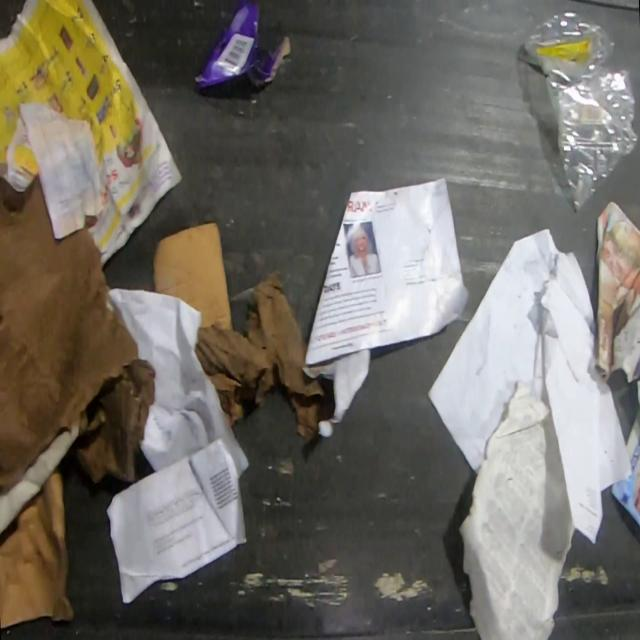cardboard: (0, 173, 154, 497), (154, 221, 325, 439), (0, 472, 74, 625), (194, 0, 290, 92)
rigid_plastic: (524, 11, 639, 211)
